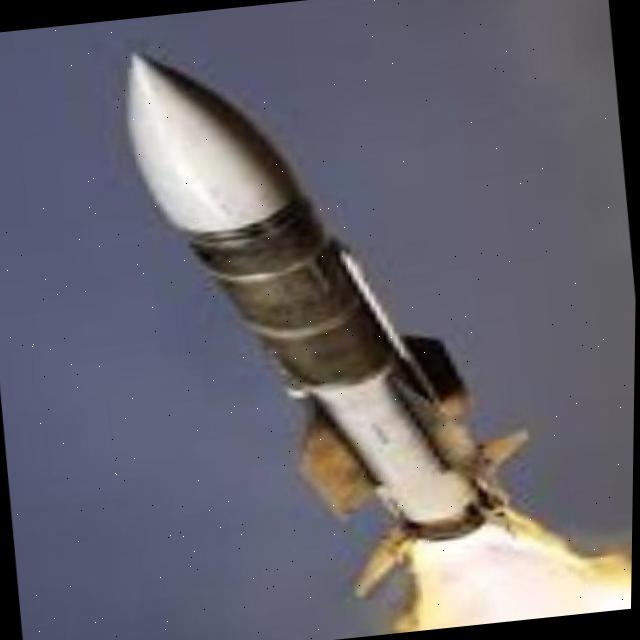missile: (106, 10, 539, 564)
